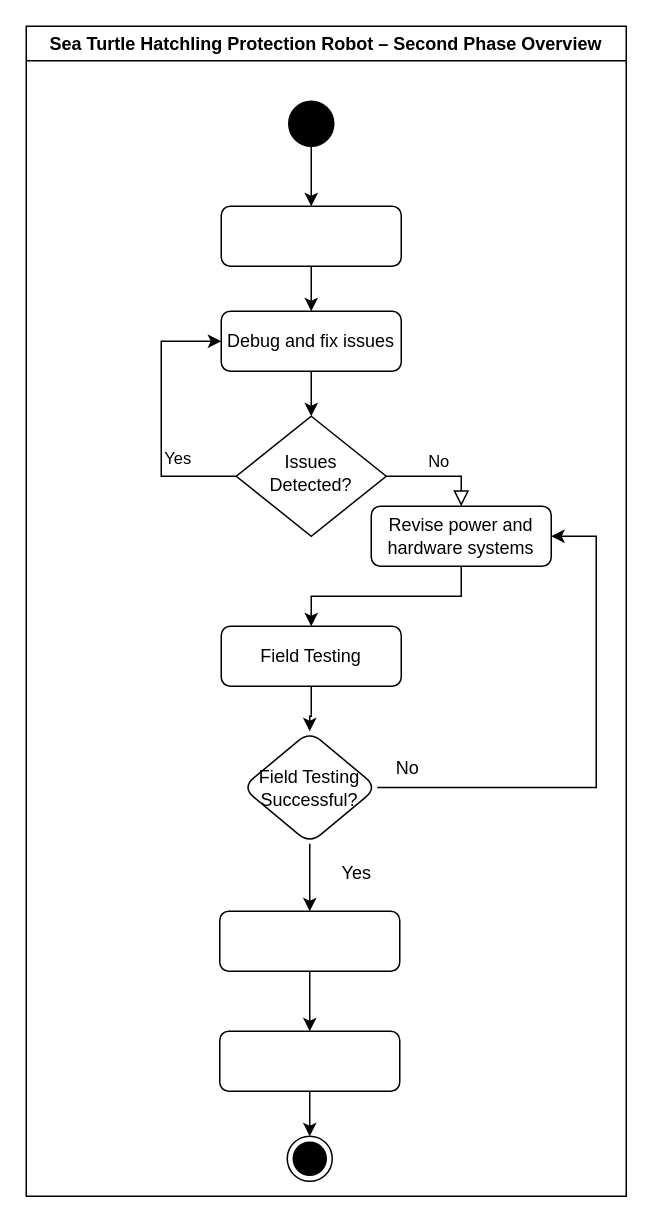
This 653x1223 diagram has some shape labels left out. The centre of each missing label's shape, as x and y in pixels:
Analyze Data & Tune Algorithms: (309,940)
Deployment: (309,1060)
Implement software modules: (310,235)
